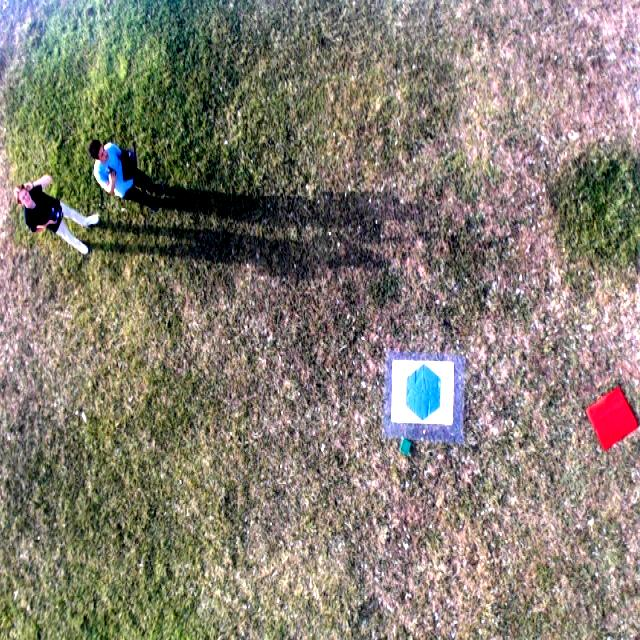blue_hexagon: (404, 362, 442, 425)
red_square: (586, 388, 638, 452)
